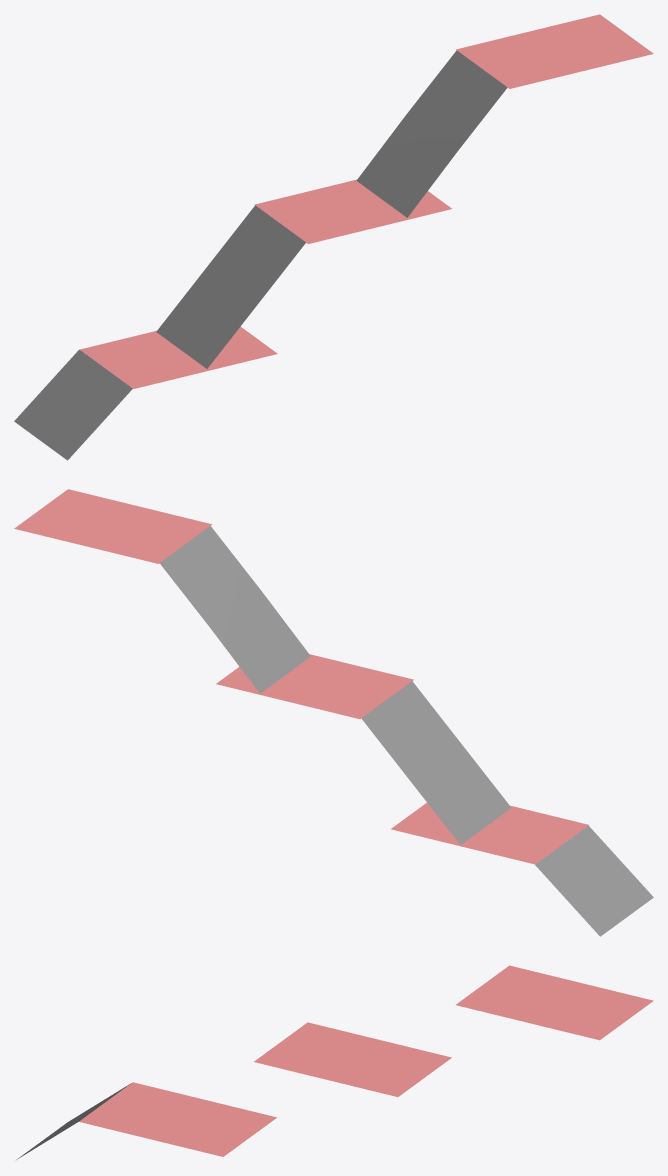
File: CHN_WaterfallStaircase01.gltf
3 views of the same model, one above another, from view 1: azimuth 30°, elevation 25°; view 2: azimuth 150°, elevation 25°; view 3: azimuth 330°, elevation 25° (orthographic).
Parts seen in each view (by area): view 1: CHN_WaterfallStaircase01; view 2: CHN_WaterfallStaircase01; view 3: CHN_WaterfallStaircase01.
Part boxes in pixels (<box>): CHN_WaterfallStaircase01: <box>14,14,653,460</box>; CHN_WaterfallStaircase01: <box>14,489,653,936</box>; CHN_WaterfallStaircase01: <box>16,965,653,1159</box>.
Size of the model in its own units: 105 by 45.19 by 16.83.
